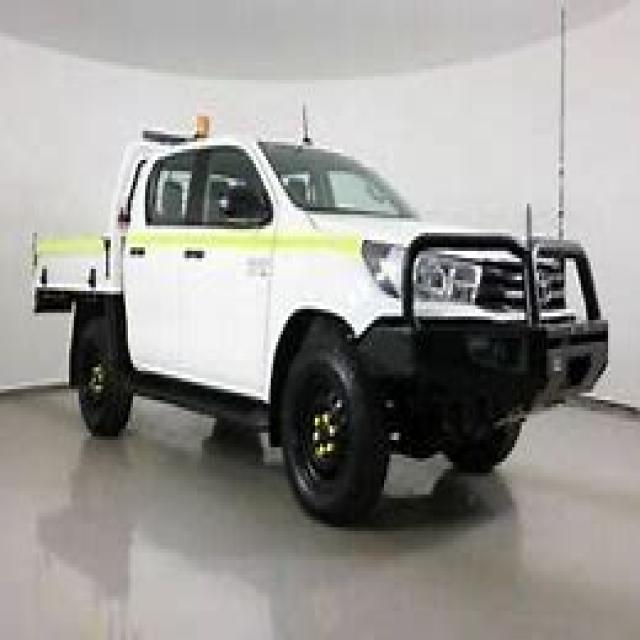light_vehicle: (17, 101, 608, 524)
